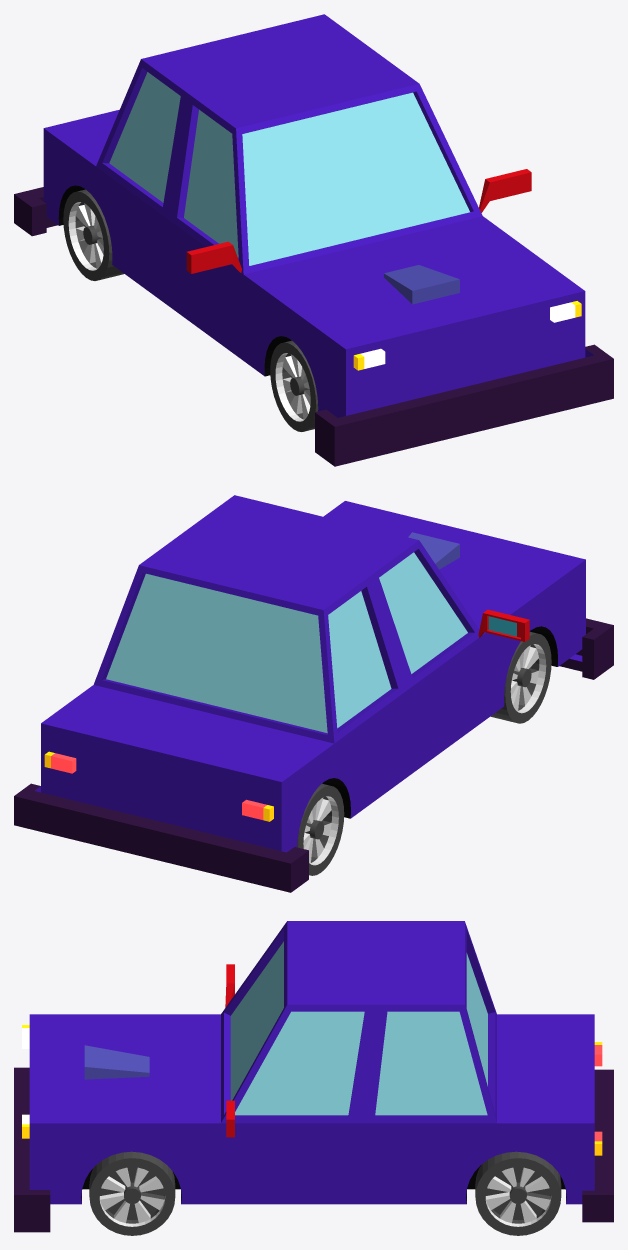
Rendered from Car.gltf.
The picture shows the model from 3 angles, top to bottom: view 1: azimuth 30°, elevation 25°; view 2: azimuth 150°, elevation 25°; view 3: azimuth 270°, elevation 25°; orthographic projection. The views are drawn at different scales.
Parts seen in each view (by area): view 1: Body, Tyre.002, Tyre.004, Side_Mirrors, Radiator, Lights.001; view 2: Body, Tyre.004, Tyre.002, Side_Mirrors, Lights.002, Radiator; view 3: Body, Tyre, Tyre.001, Radiator, Side_Mirrors, Lights.002.
Part boxes in pixels (x1=…): Body: x1=14, y1=14, x2=613, y2=466; Tyre.002: x1=63, y1=189, x2=124, y2=280; Tyre.004: x1=270, y1=340, x2=318, y2=431; Side_Mirrors: x1=186, y1=169, x2=531, y2=273; Radiator: x1=384, y1=265, x2=459, y2=304; Lights.001: x1=353, y1=301, x2=581, y2=370; Body: x1=14, y1=495, x2=613, y2=892; Tyre.004: x1=490, y1=631, x2=551, y2=723; Tyre.002: x1=297, y1=783, x2=344, y2=875; Side_Mirrors: x1=478, y1=609, x2=529, y2=641; Lights.002: x1=44, y1=751, x2=273, y2=821; Radiator: x1=408, y1=532, x2=459, y2=569; Body: x1=14, y1=921, x2=613, y2=1232; Tyre: x1=89, y1=1151, x2=175, y2=1235; Tyre.001: x1=475, y1=1151, x2=561, y2=1235; Radiator: x1=84, y1=1045, x2=149, y2=1079; Side_Mirrors: x1=225, y1=964, x2=234, y2=1137; Lights.002: x1=594, y1=1042, x2=602, y2=1155.
Bounding box in the file's own units: 2.84 × 1.86 × 4.64.
